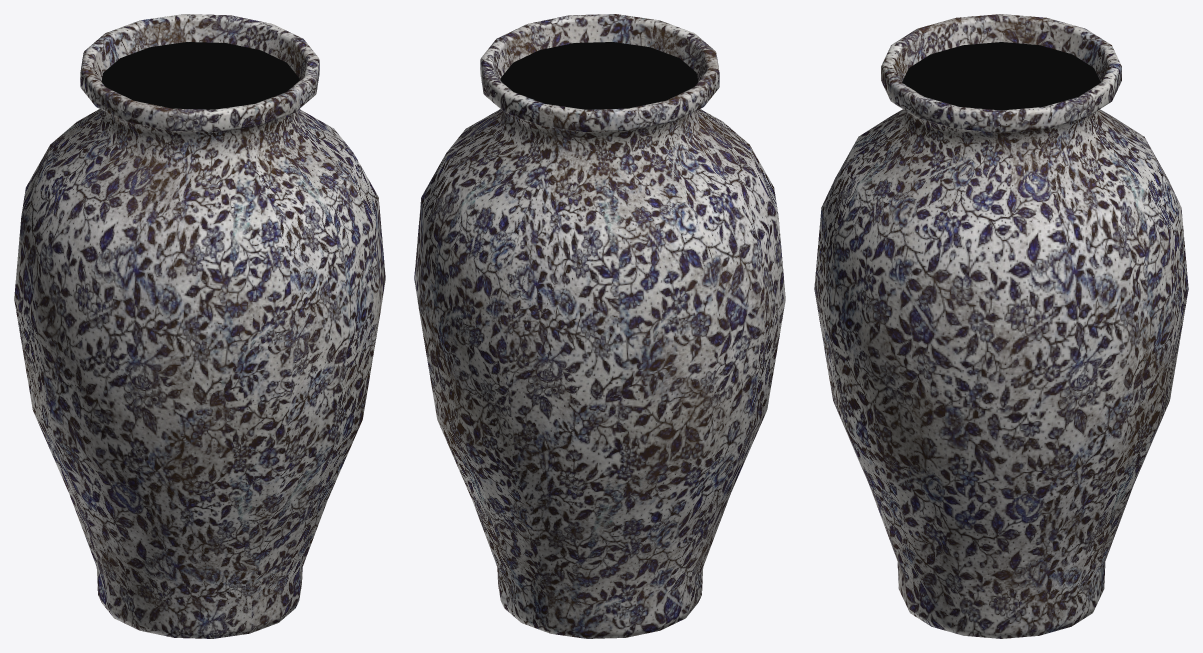
The model's file is vase.glb.
3 renders of one model, left to right at view 1: azimuth 30°, elevation 25°; view 2: azimuth 150°, elevation 25°; view 3: azimuth 270°, elevation 25°, orthographic.
Visible parts, largest first — view 1: vase1_low; view 2: vase1_low; view 3: vase1_low.
Part boxes in pixels (x1=…): vase1_low: x1=14, y1=14, x2=385, y2=638; vase1_low: x1=414, y1=14, x2=785, y2=638; vase1_low: x1=814, y1=14, x2=1188, y2=638.
Bounding box in the file's own units: 0.4959 × 0.785 × 0.4959.
Materials: 1 (1 with a texture image).
